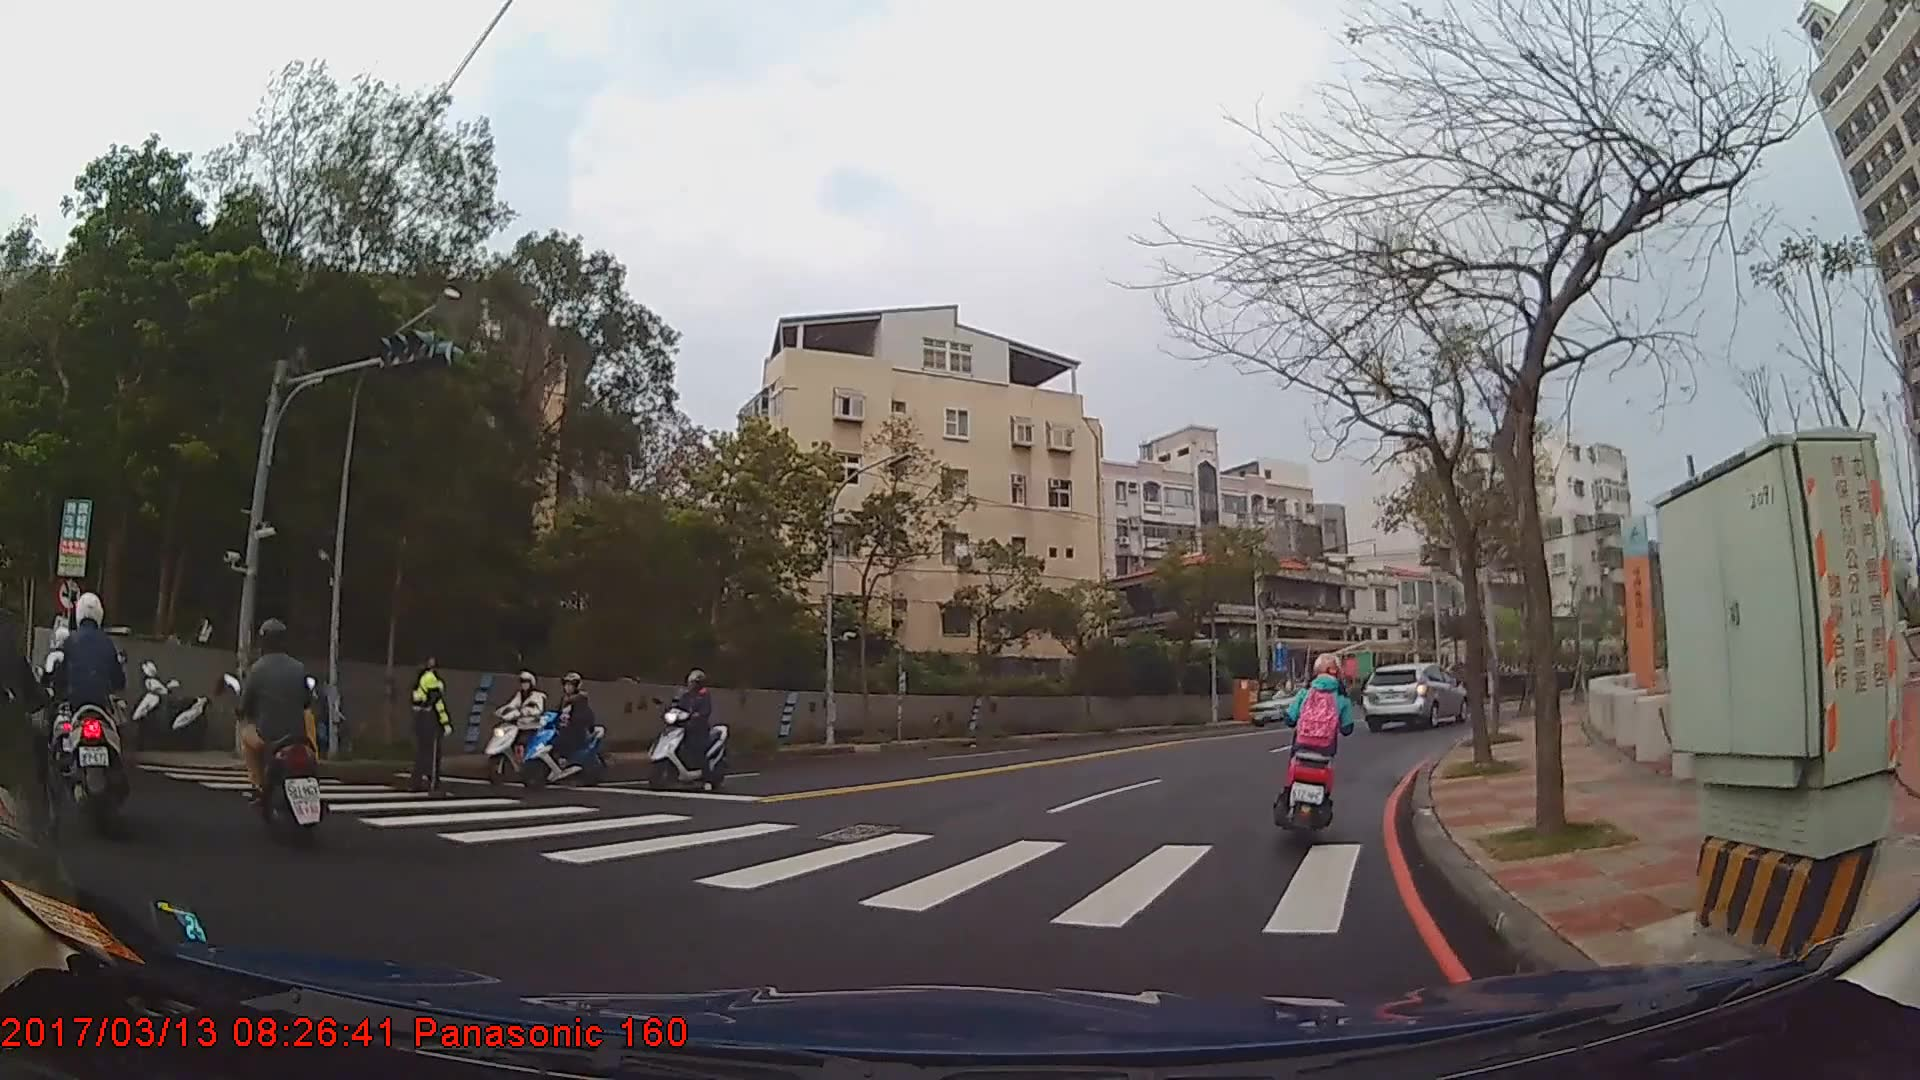pedestrian: (410, 646, 456, 795)
rider: (224, 616, 322, 845), (48, 590, 128, 836), (1278, 650, 1357, 835), (647, 671, 731, 791), (525, 669, 602, 786), (485, 671, 561, 782)
vehicle: (1359, 660, 1467, 728), (1246, 682, 1328, 726)
